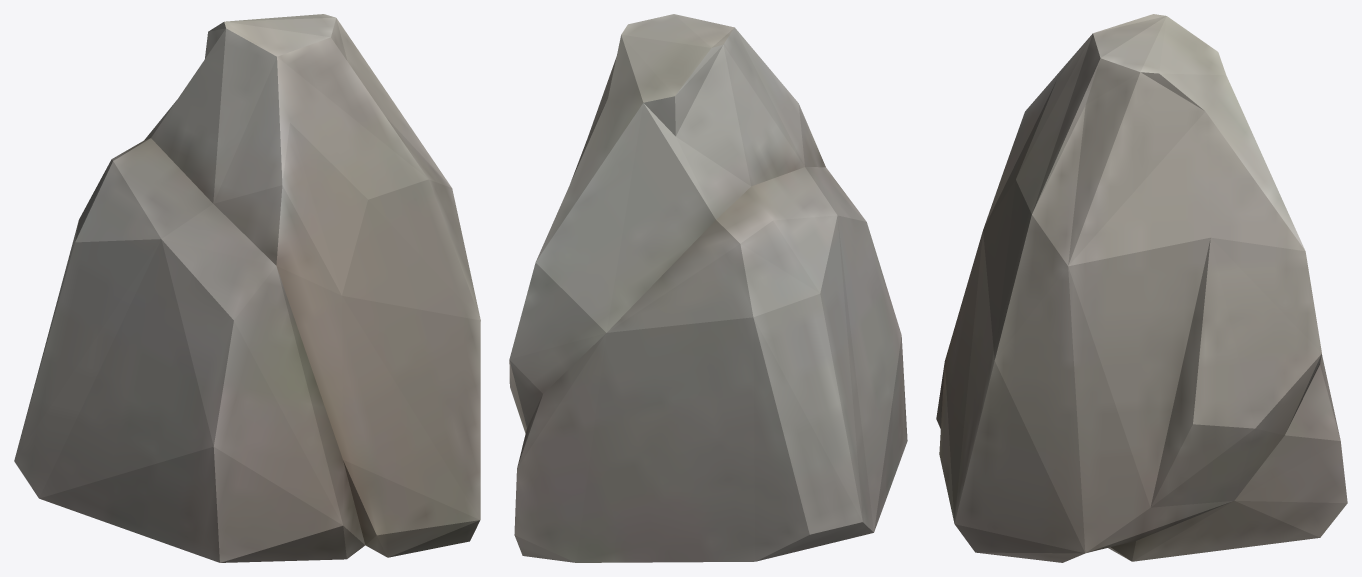
The model's file is rock_05.glb.
The picture shows the model from 3 angles, left to right: view 1: azimuth 30°, elevation 25°; view 2: azimuth 150°, elevation 25°; view 3: azimuth 270°, elevation 25°; orthographic projection. The views are drawn at different scales.
Parts seen in each view (by area): view 1: SM_Rocks_05_RocksStylized_M_0; view 2: SM_Rocks_05_RocksStylized_M_0; view 3: SM_Rocks_05_RocksStylized_M_0.
Boxes of the visible parts, x1,y1,x2,y2 form: SM_Rocks_05_RocksStylized_M_0: (14,14,480,562); SM_Rocks_05_RocksStylized_M_0: (509,14,907,562); SM_Rocks_05_RocksStylized_M_0: (936,14,1347,562).
Bounding box in the file's own units: 2.33 × 2.97 × 2.35.
1 material, 1 textured.
